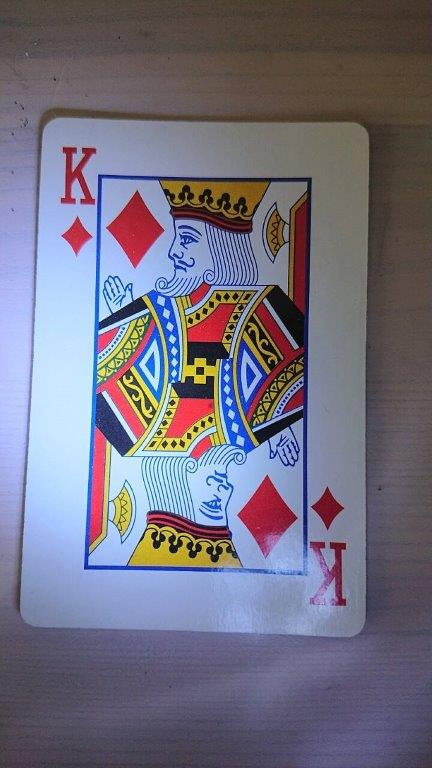KD: (17, 114, 368, 640)
